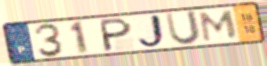1: (69, 19, 92, 56)
3: (33, 22, 65, 58)
J: (136, 13, 169, 50)
M: (199, 9, 239, 43)
P: (100, 17, 134, 53)
U: (163, 9, 203, 47)
